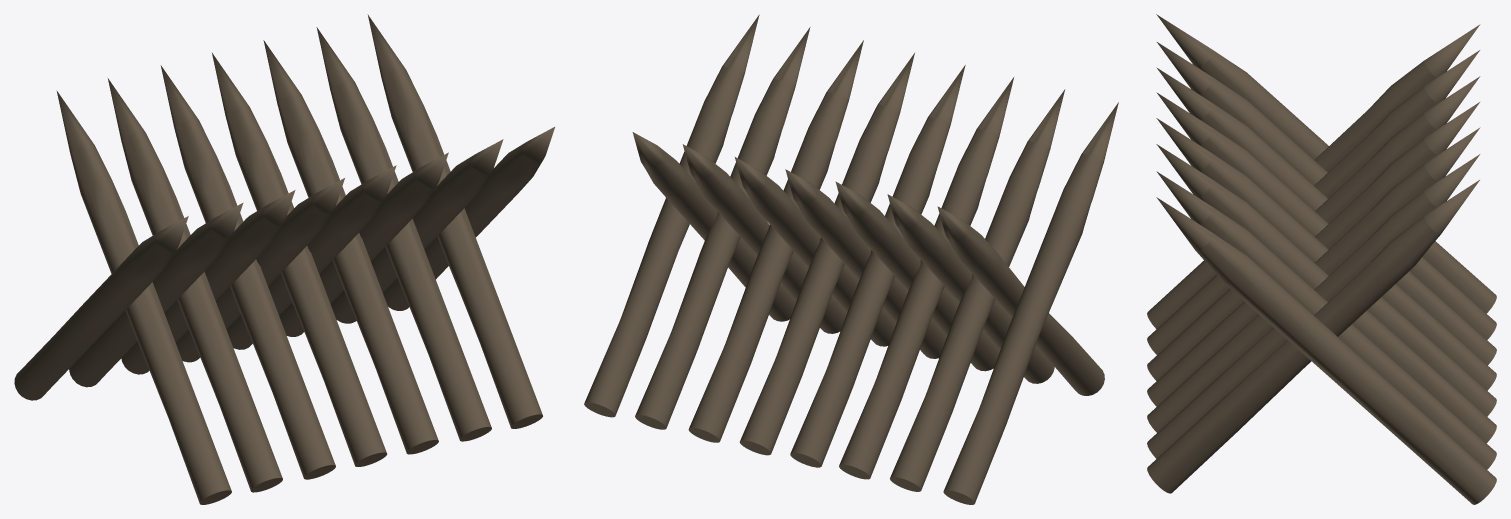
The model's file is Wooden_Spikes.fbx.
3 renders of one model, left to right at view 1: azimuth 30°, elevation 25°; view 2: azimuth 150°, elevation 25°; view 3: azimuth 270°, elevation 25°, orthographic. The views are drawn at different scales.
Visible parts, largest first — view 1: Spikes; view 2: Spikes; view 3: Spikes.
Boxes of the visible parts, left/top/right/bottom form: Spikes: left=14, top=14, right=554, bottom=504; Spikes: left=584, top=14, right=1118, bottom=504; Spikes: left=1147, top=14, right=1496, bottom=504.
Bounding box in the file's own units: 4.47 × 3.28 × 3.34.
